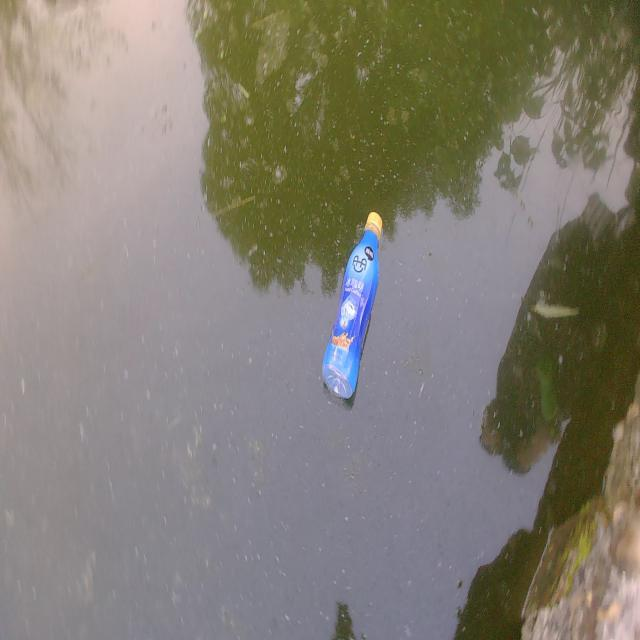Bottle: (320, 208, 385, 403)
